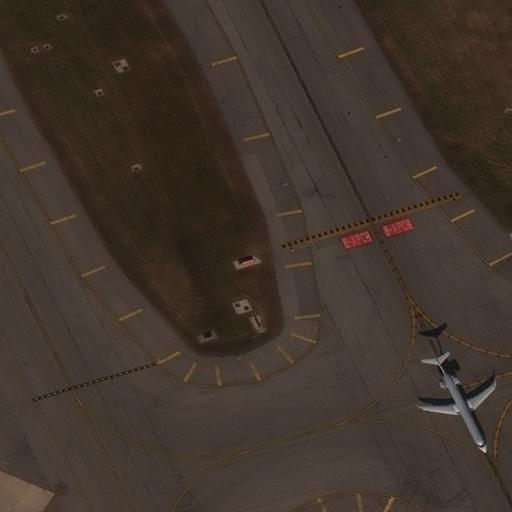Medium Civil Transport: (419, 354, 494, 452)
